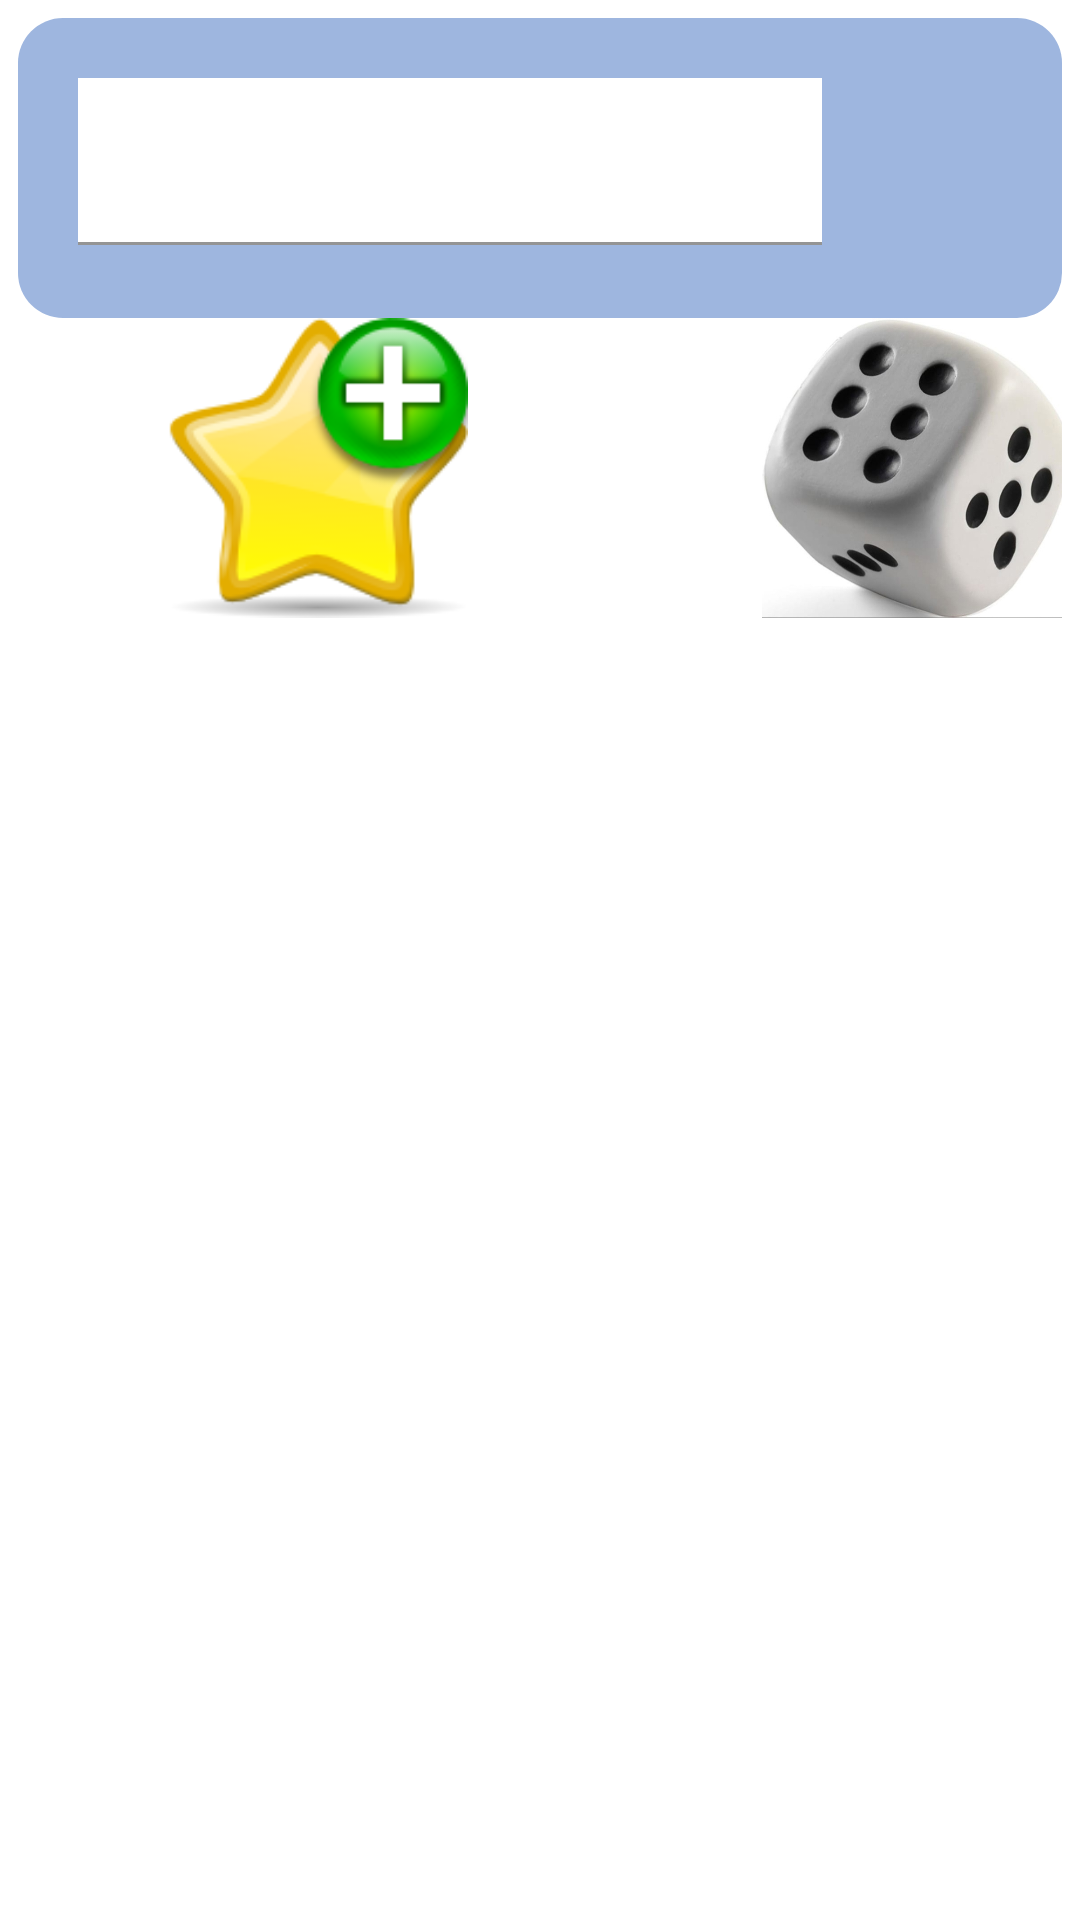

Named icons in this screenshot (1080w x 1920h) and their centers, point (x, y):
addfavorite: point (318, 467)
